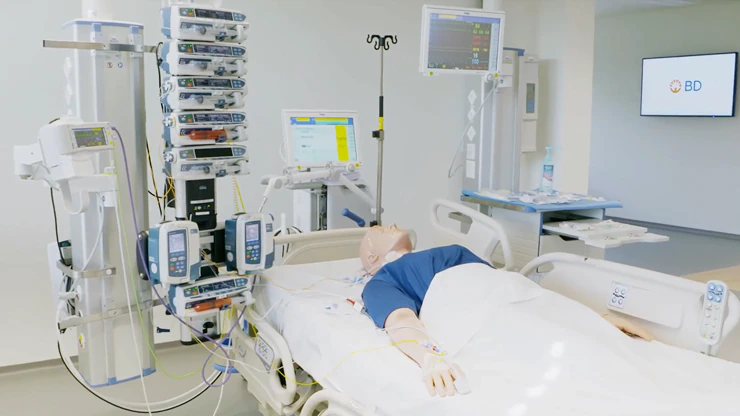TV: (638, 53, 740, 118)
bedrail: (518, 253, 740, 354), (225, 303, 296, 416), (418, 198, 514, 270), (295, 389, 378, 416)
bedside_monitor: (277, 107, 366, 177), (421, 7, 505, 77)
hospital_bed: (218, 227, 739, 416)
infusion_pump: (228, 214, 279, 274), (150, 224, 201, 283)
iv_pole: (366, 33, 399, 226)
patient: (361, 220, 648, 416)
syringe_pump: (171, 4, 250, 40), (174, 281, 253, 315), (172, 43, 248, 75), (169, 146, 245, 178), (173, 111, 249, 143), (174, 77, 250, 109)
